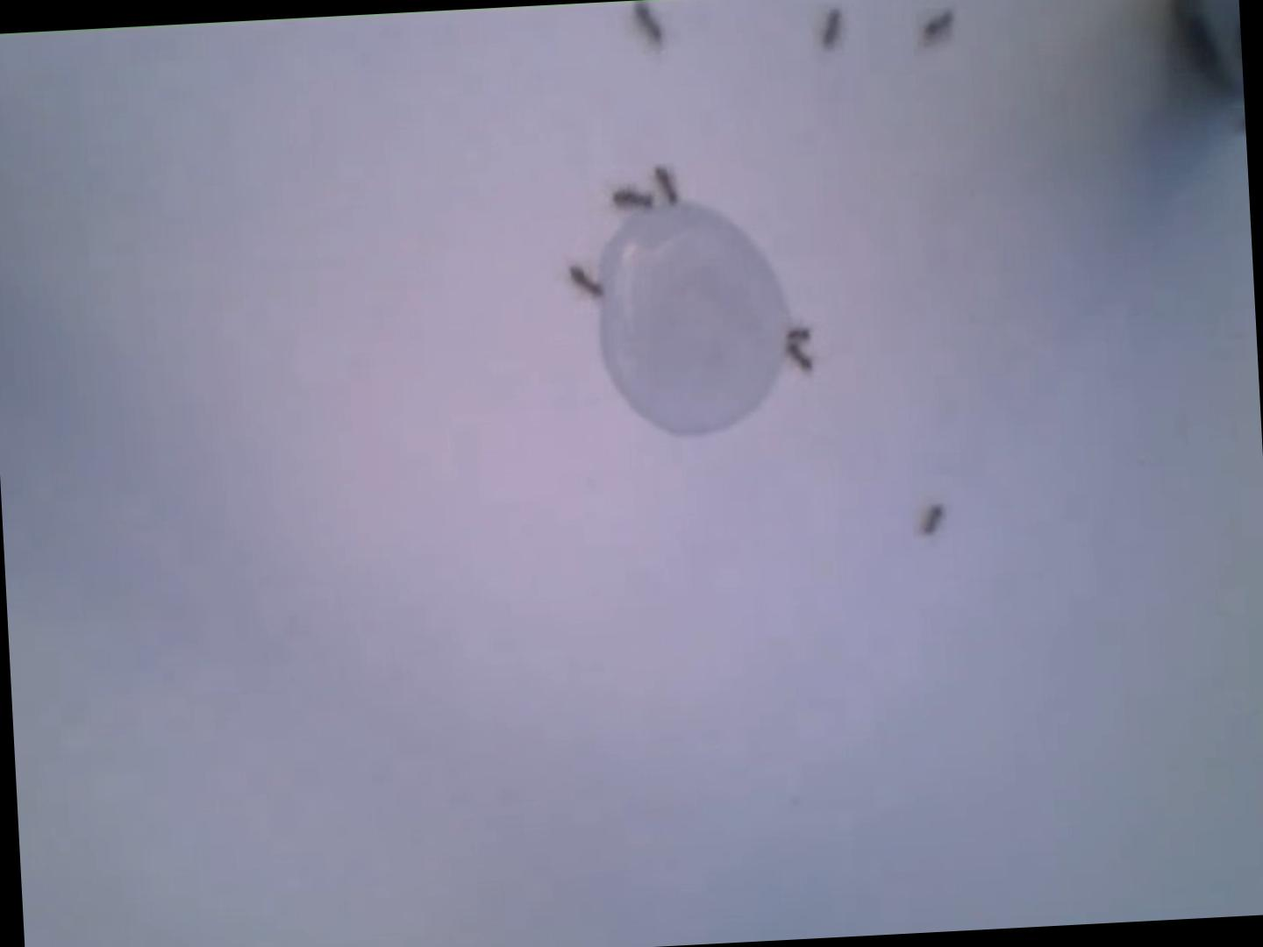Ant: (628, 1, 662, 48), (917, 11, 953, 47), (815, 7, 843, 50), (566, 266, 600, 300), (608, 185, 650, 212), (651, 166, 678, 206), (782, 342, 811, 374), (917, 505, 942, 538), (781, 326, 808, 345), (1234, 115, 1246, 137)
